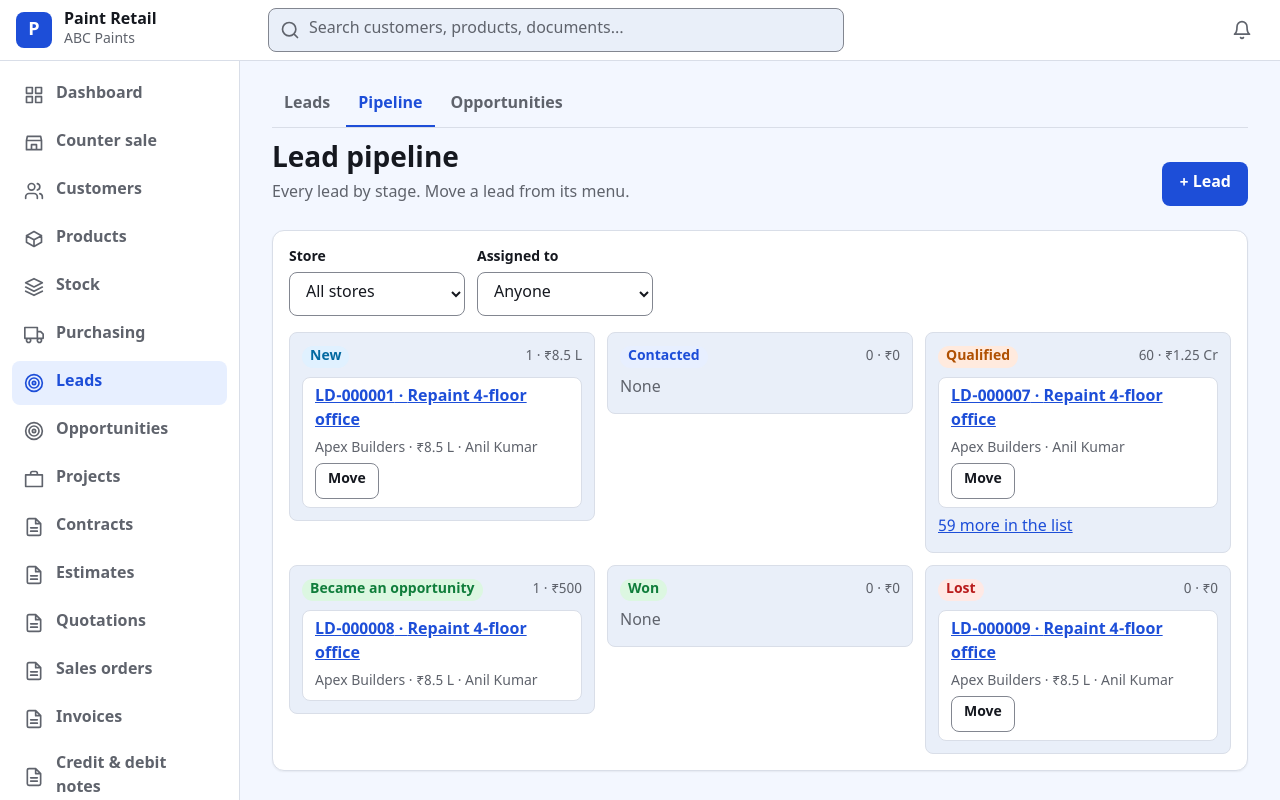
Test case: LeadBoardPage › reopens a lost lead
This screenshot has width=1280, height=800.
Click the button with aria-label "Move LD-000009": (983, 714) [951, 696, 1015, 732]
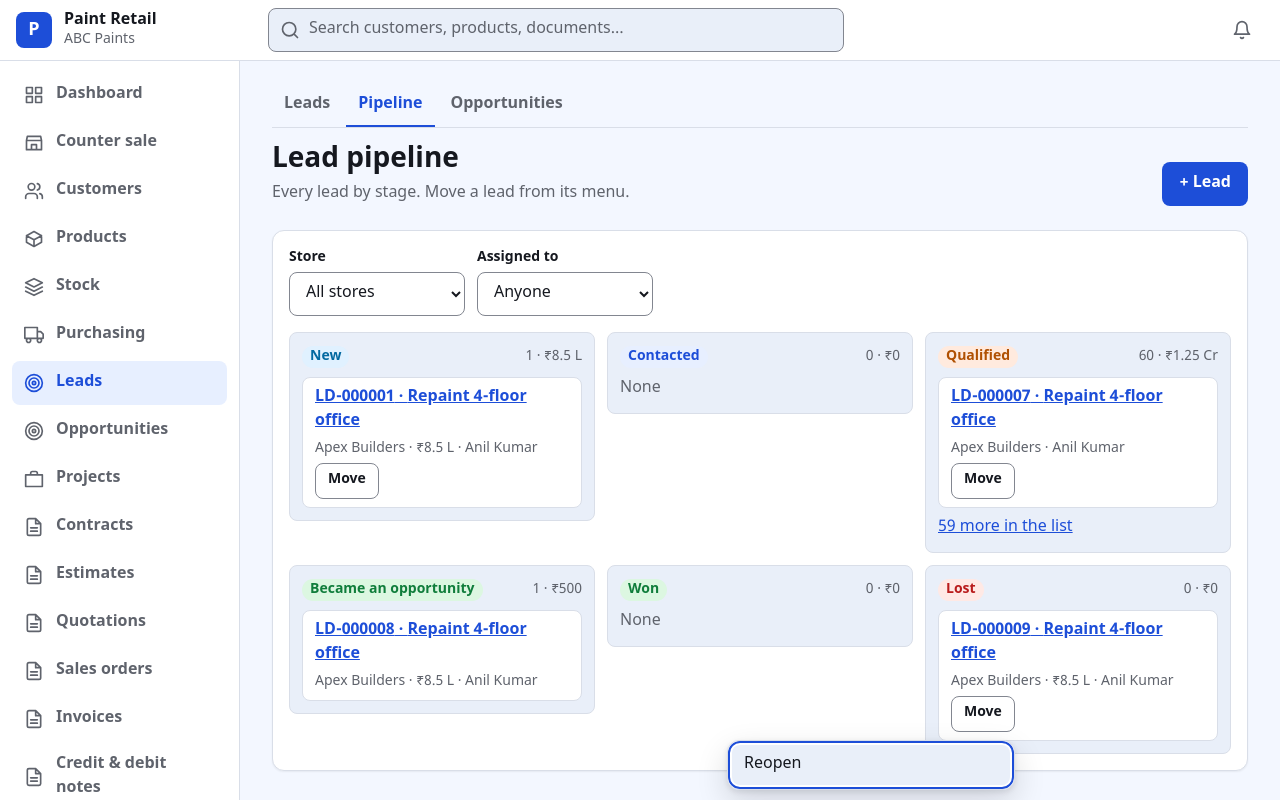
Click the button "Reopen": (773, 764) [732, 745, 1010, 785]
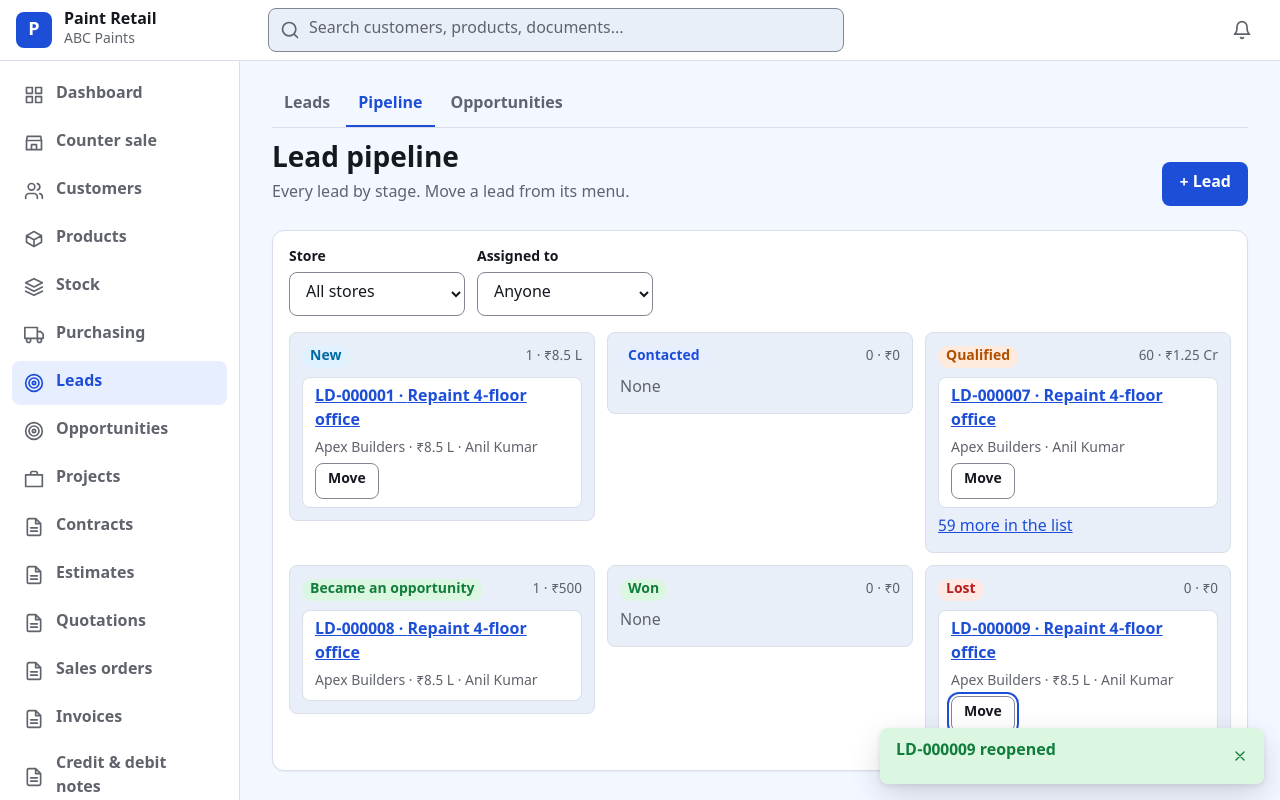
Expected: the text "LD-000009 reopened" is shown, [896, 741, 1056, 762]
